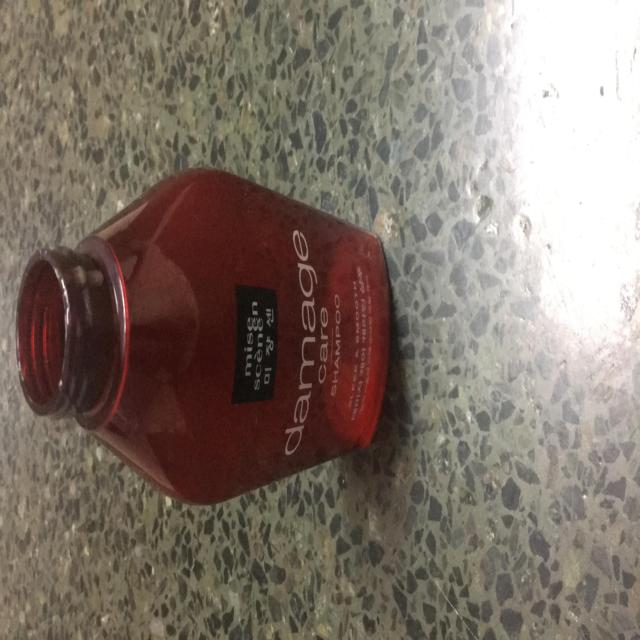bottle: (16, 162, 394, 509)
